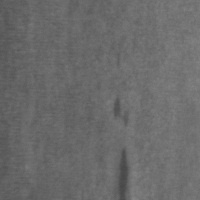inclusion: (115, 146, 136, 199), (110, 92, 134, 130)
